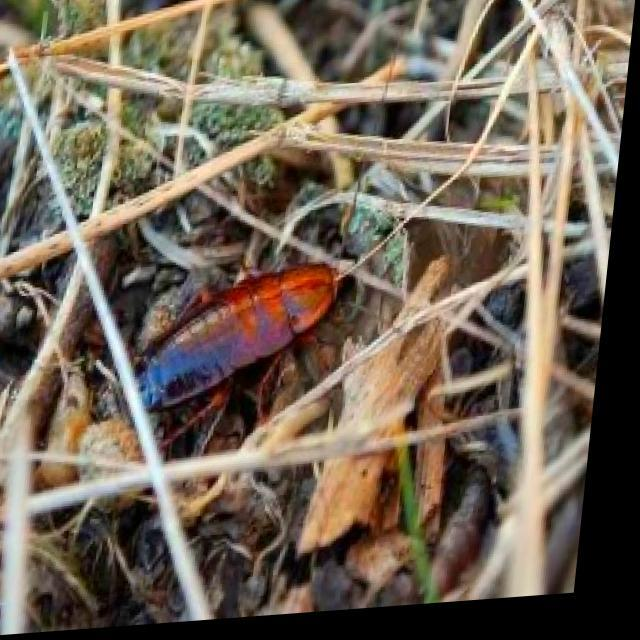cockroach: (122, 255, 351, 417)
